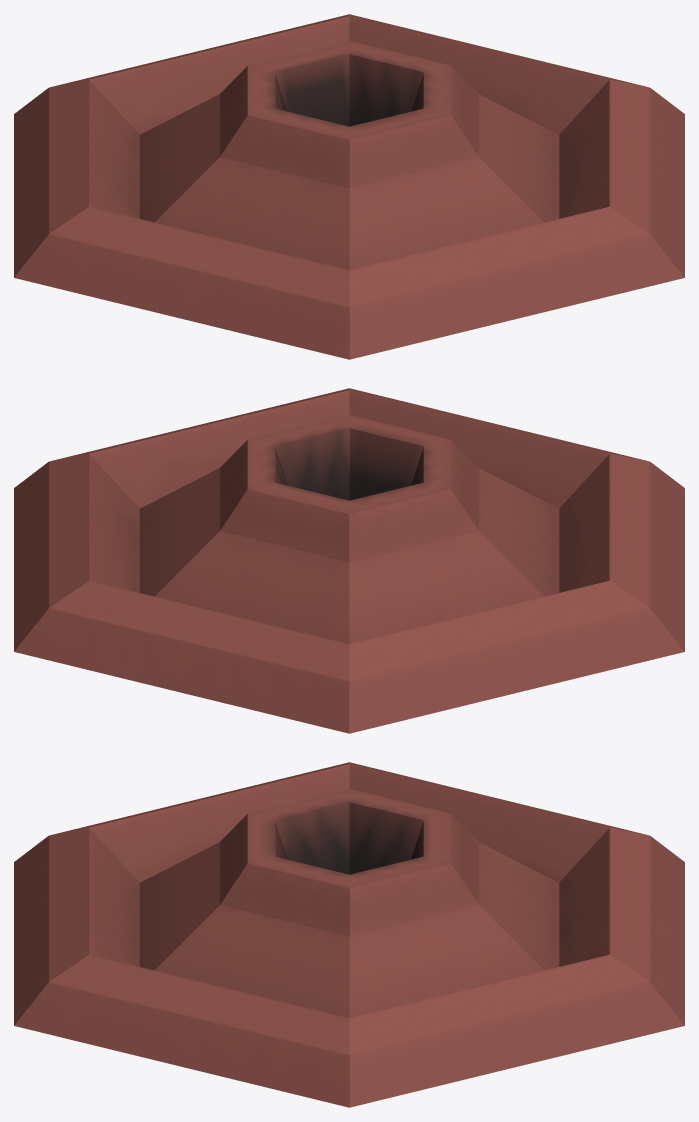
Rendered from HexaTile_Oxygene.FBX.
The picture shows the model from 3 angles, top to bottom: view 1: azimuth 30°, elevation 25°; view 2: azimuth 150°, elevation 25°; view 3: azimuth 270°, elevation 25°; orthographic projection.
Parts seen in each view (by area): view 1: HexaTile_Oxygene; view 2: HexaTile_Oxygene; view 3: HexaTile_Oxygene.
Part boxes in pixels (x1,y1,x2,y2): HexaTile_Oxygene: (14, 14, 684, 359); HexaTile_Oxygene: (14, 388, 684, 733); HexaTile_Oxygene: (14, 762, 684, 1107).
Size of the model in its own units: 1 by 0.1503 by 0.866.
